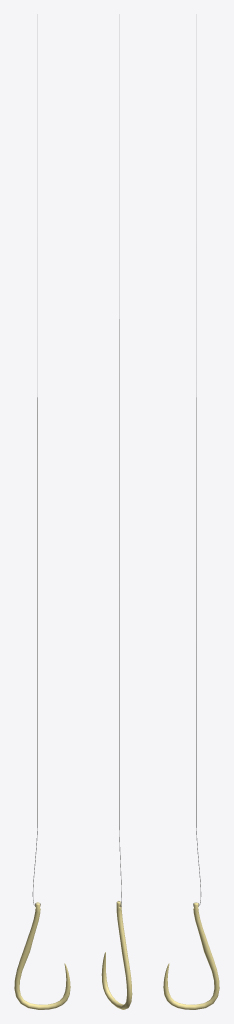
The model's file is anzol.fbx.
The picture shows the model from 3 angles, left to right: view 1: azimuth 90°, elevation 25°; view 2: azimuth 210°, elevation 25°; view 3: azimuth 270°, elevation 25°; orthographic projection.
Parts seen in each view (by area): view 1: Anzol, BézierCurve; view 2: Anzol, BézierCurve; view 3: Anzol, BézierCurve.
Boxes of the visible parts, x1=… form: Anzol: x1=14, y1=902, x2=70, y2=1009; BézierCurve: x1=32, y1=14, x2=40, y2=906; Anzol: x1=101, y1=901, x2=132, y2=1009; BézierCurve: x1=118, y1=14, x2=121, y2=906; Anzol: x1=163, y1=902, x2=219, y2=1009; BézierCurve: x1=193, y1=14, x2=201, y2=906.
Bounding box in the file's own units: 10.01 × 2095 × 107.
